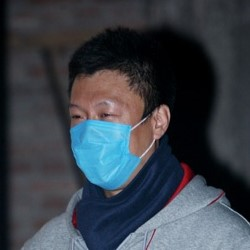mask: (65, 119, 159, 188)
